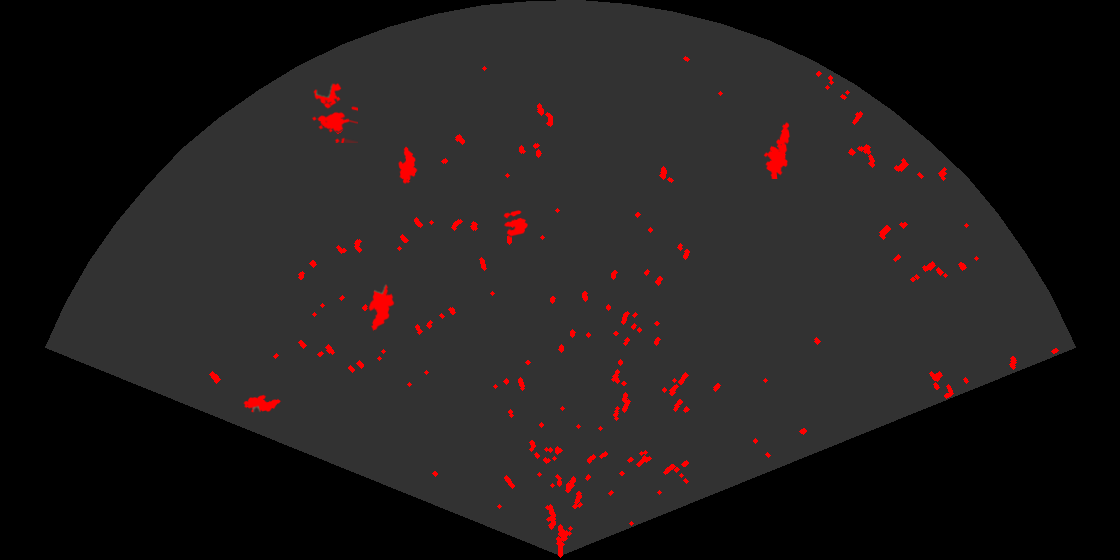AUV: (367, 283, 396, 333), (397, 145, 419, 186), (242, 393, 283, 414)
ball: (502, 209, 529, 238)
cage: (310, 81, 358, 143)
frogman: (762, 121, 791, 179)
